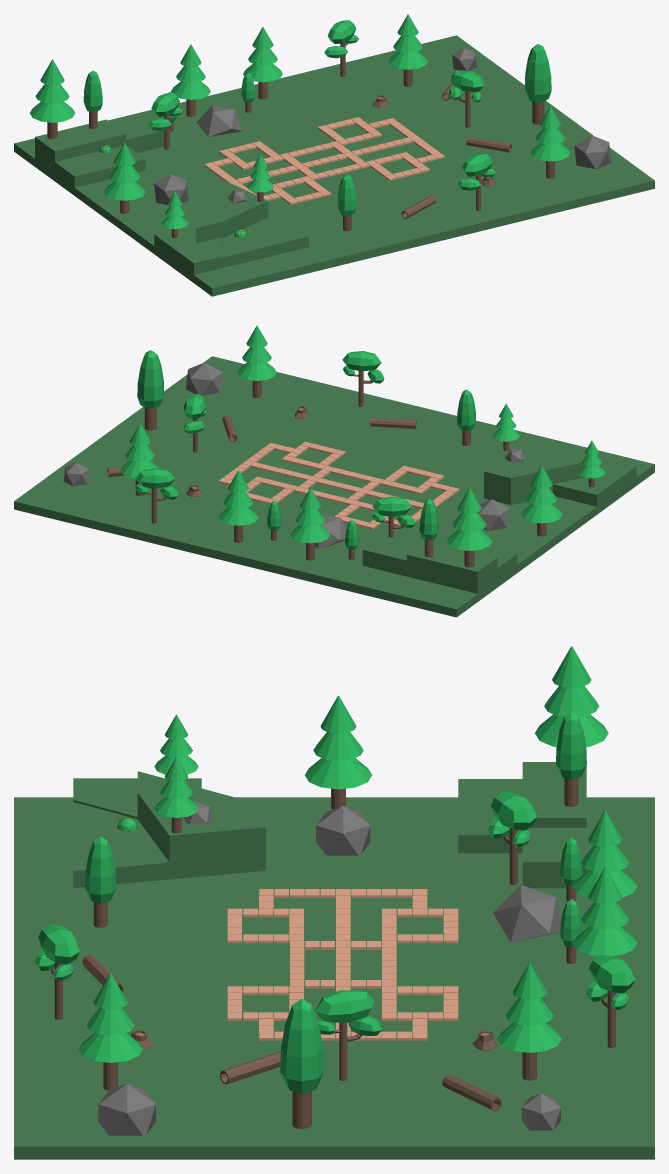
File: mapa_2,0.glb
3 views of the same model, one above another, from view 1: azimuth 30°, elevation 25°; view 2: azimuth 150°, elevation 25°; view 3: azimuth 270°, elevation 25° (orthographic). The views are drawn at different scales.
Parts seen in each view (by area): view 1: Cubo.035, Círculo.016, Círculo.015, Círculo.017, Círculo, Círculo.013, Círculo.001, Círculo.011, Cubo.013, Esfera geodésica.005, Cubo.141, Esfera geodésica.007 (+9 smaller); view 2: Cubo.035, Círculo.016, Círculo.015, Círculo.017, Círculo.001, Círculo.013, Círculo.011, Cubo.140, Círculo, Cubo.141, Cubo, Esfera geodésica.007 (+9 smaller); view 3: Cubo.035, Círculo.015, Círculo.017, Círculo, Círculo.001, Círculo.016, Círculo.011, Cubo.013, Esfera geodésica.005, Círculo.013, Esfera geodésica.007, Cubo (+12 smaller).
Part boxes in pixels (box(x1,y1,x2,y2)): Cubo.035: box(14, 35, 654, 296); Círculo.016: box(29, 59, 75, 139); Círculo.015: box(524, 44, 551, 124); Círculo.017: box(104, 142, 145, 213); Círculo: box(388, 14, 427, 86); Círculo.013: box(171, 44, 210, 116); Círculo.001: box(530, 106, 570, 178); Círculo.011: box(243, 27, 282, 99); Cubo.013: box(449, 70, 483, 127); Esfera geodésica.005: box(196, 105, 242, 136); Cubo.141: box(457, 153, 495, 210); Esfera geodésica.007: box(574, 136, 611, 168); Cubo.035: box(14, 356, 654, 617); Círculo.016: box(447, 487, 492, 567); Círculo.015: box(137, 350, 164, 430); Círculo.017: box(521, 465, 562, 536); Círculo.001: box(237, 325, 276, 397); Círculo.013: box(290, 488, 330, 560); Círculo.011: box(218, 470, 258, 542); Cubo.140: box(135, 468, 178, 523); Círculo: box(120, 423, 158, 495); Cubo.141: box(342, 351, 384, 406); Cubo: box(372, 496, 415, 537); Esfera geodésica.007: box(186, 362, 222, 395); Cubo.035: box(14, 762, 654, 1159); Círculo.015: box(280, 998, 323, 1128); Círculo.017: box(305, 695, 372, 809); Círculo: box(497, 963, 561, 1080); Círculo.001: box(78, 973, 142, 1090); Círculo.016: box(535, 646, 608, 746); Círculo.011: box(573, 867, 637, 955); Cubo.013: box(315, 990, 381, 1080); Esfera geodésica.005: box(493, 885, 561, 942); Círculo.013: box(573, 810, 637, 897); Esfera geodésica.007: box(98, 1083, 155, 1135); Cubo: box(487, 791, 536, 884).
Bounding box in the file's own units: 10.6 × 2.43 × 8.1.
